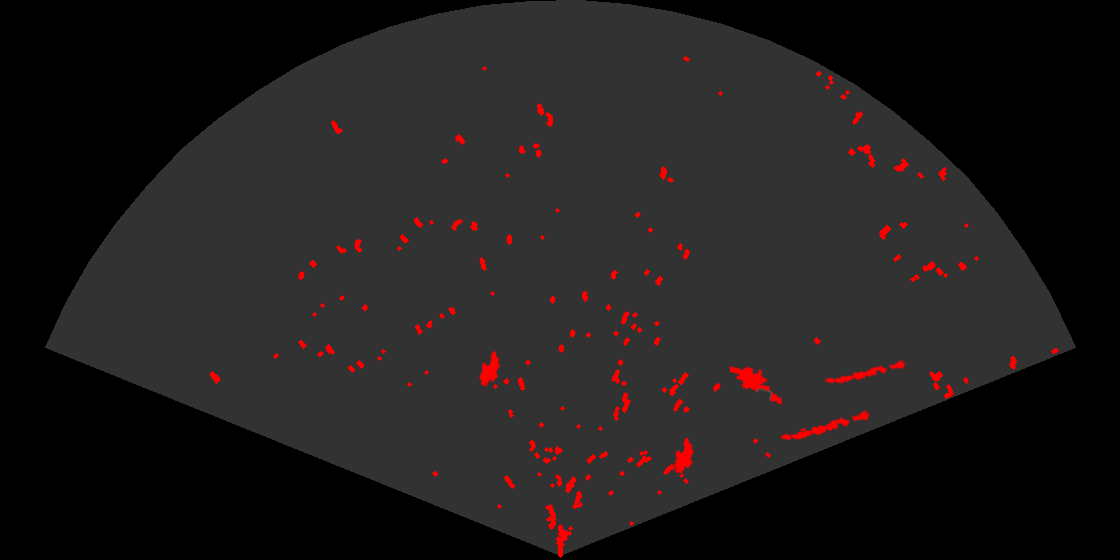AUV: (477, 349, 502, 388), (672, 436, 695, 476)
chain: (779, 409, 875, 442), (823, 359, 909, 385)
frogman: (730, 364, 785, 406)
